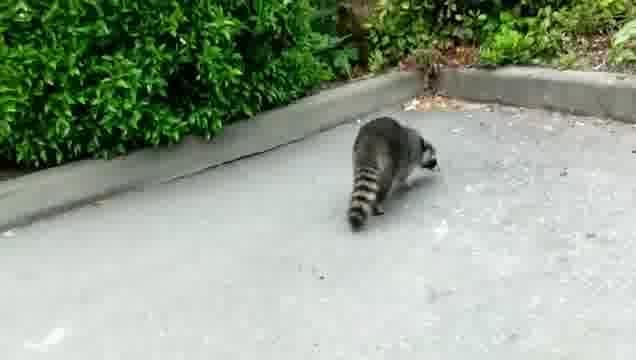raccoon: (348, 116, 441, 231)
